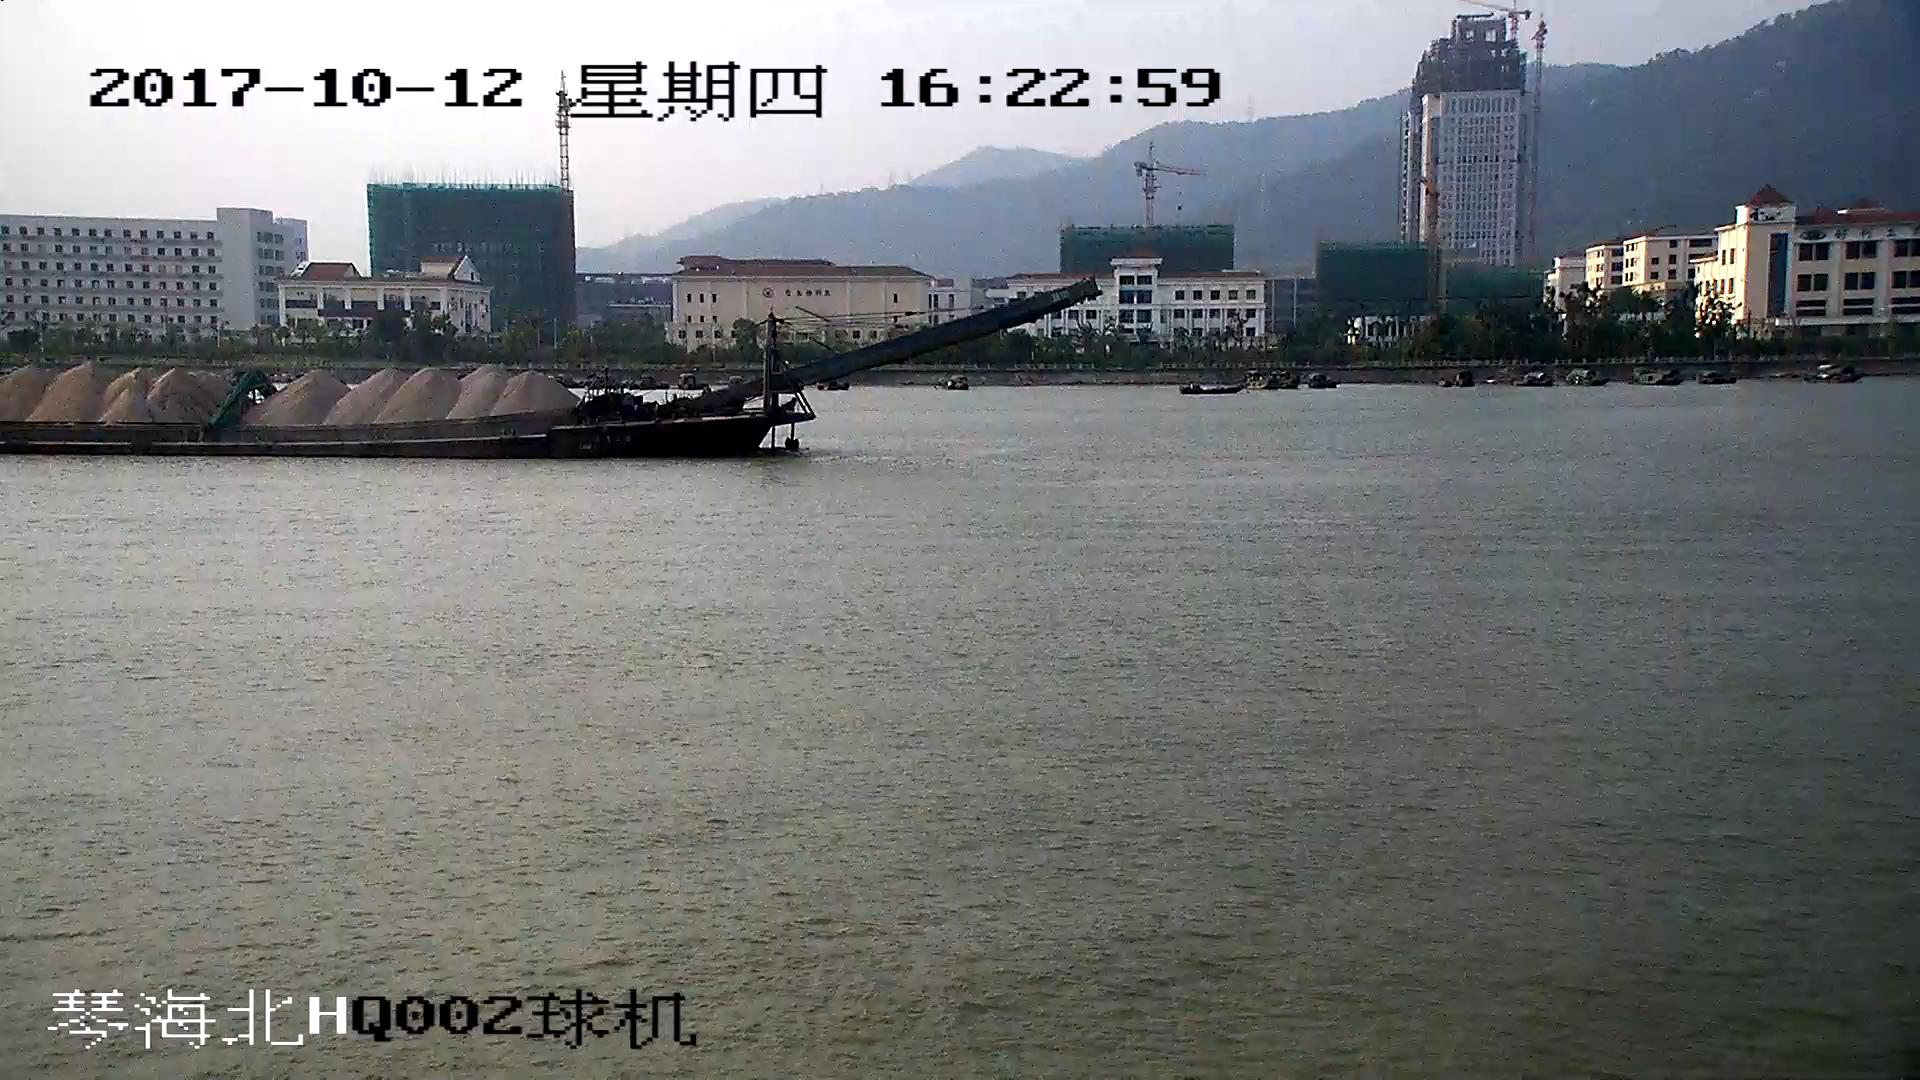ore carrier: (1, 282, 1094, 456)
